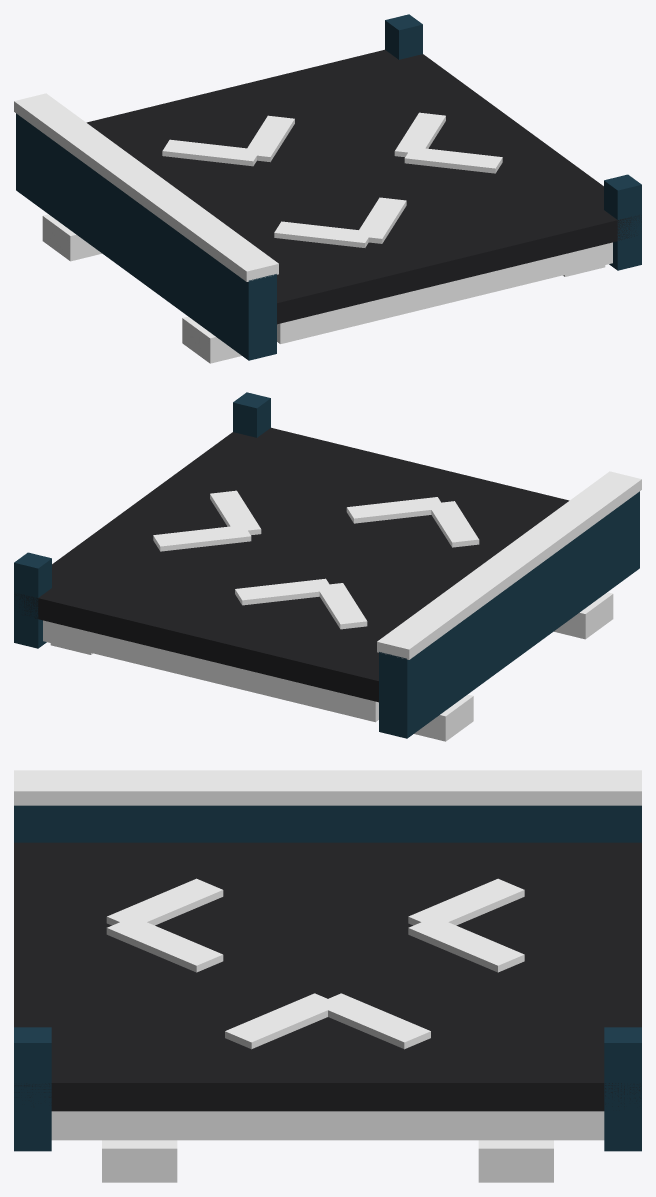
File: belt_tee_l.obj
3 views of the same model, one above another, from view 1: azimuth 30°, elevation 25°; view 2: azimuth 150°, elevation 25°; view 3: azimuth 270°, elevation 25° (orthographic). The views are drawn at different scales.
Visible parts, largest first — view 1: Belt; view 2: Belt; view 3: Belt.
Boxes of the visible parts, box(x1,y1,x2,y2) form: Belt: box(14, 14, 641, 363); Belt: box(14, 392, 641, 741); Belt: box(14, 770, 641, 1182).
Bounding box in the file's own units: 0.99 × 0.2725 × 1.
